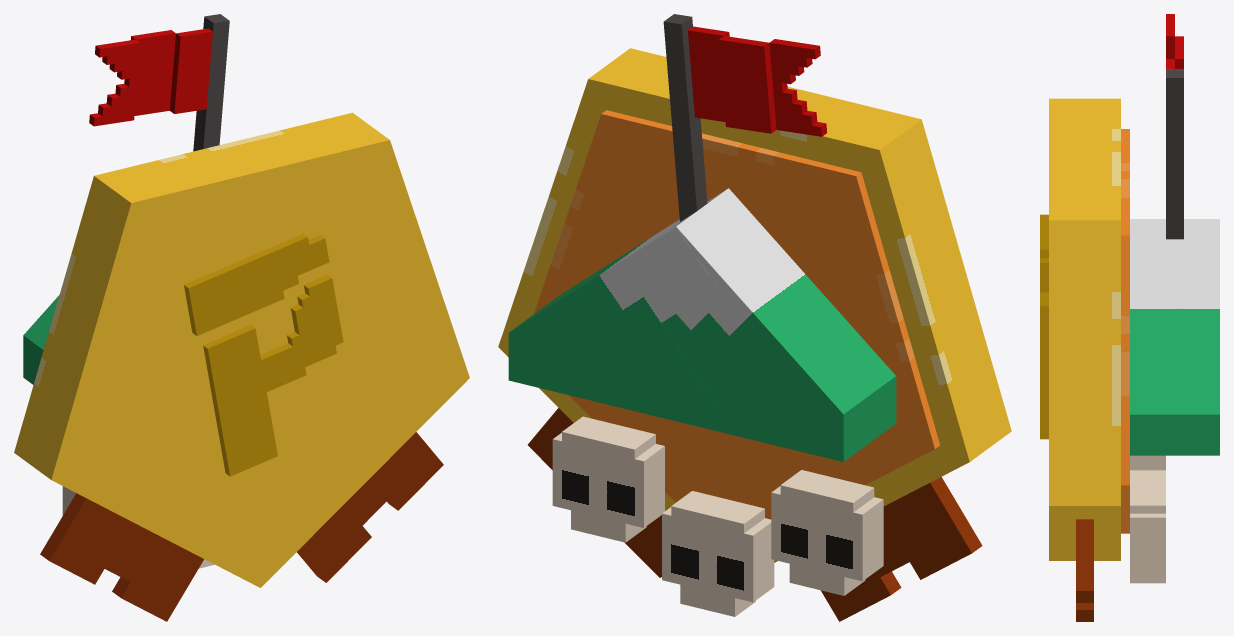
The model's file is achievement_maxlevel.gltf.
3 renders of one model, left to right at view 1: azimuth 30°, elevation 25°; view 2: azimuth 150°, elevation 25°; view 3: azimuth 270°, elevation 25°, orthographic. The views are drawn at different scales.
Visible parts, largest first — view 1: Main-Local, Frame2-Local, Frame1-Local, BackP-Local, Frame5-Local, Flag-Local, Ribbon2-Local, Frame4-Local, Ribbon1-Local, Frame3-Local, Mountain4-Local, Mountain2$$(1)-Local; view 2: Mountain4-Local, Frame2-Local, Mountain1-Local, Main-Local, Flag-Local, Frame1-Local, Border5-Local, Skull3_3-Local, Skull3_2-Local, Border2-Local, Skull3_1-Local, Border3-Local (+9 smaller); view 3: Frame5-Local, Mountain1-Local, Frame1-Local, Skull3_2-Local, Flag-Local, Mountain3-Local, Frame4-Local, Border5-Local, BackP-Local, Ribbon1-Local, Border1-Local, Skull3_3-Local (+1 smaller).
Boxes of the visible parts, left/top/right/bottom form: Main-Local: left=115, top=194, right=406, bottom=544; Frame2-Local: left=14, top=176, right=192, bottom=485; Frame1-Local: left=94, top=112, right=389, bottom=270; BackP-Local: left=184, top=234, right=343, bottom=476; Frame5-Local: left=340, top=140, right=469, bottom=413; Flag-Local: left=89, top=14, right=229, bottom=151; Ribbon2-Local: left=40, top=493, right=203, bottom=621; Frame4-Local: left=223, top=333, right=469, bottom=587; Ribbon1-Local: left=297, top=432, right=443, bottom=582; Frame3-Local: left=51, top=417, right=298, bottom=587; Mountain4-Local: left=23, top=295, right=59, bottom=349; Mountain2$$(1)-Local: left=23, top=335, right=43, bottom=384; Mountain4-Local: left=661, top=188, right=895, bottom=425; Frame2-Local: left=810, top=119, right=1011, bottom=463; Mountain1-Local: left=509, top=190, right=725, bottom=414; Main-Local: left=583, top=154, right=874, bottom=490; Flag-Local: left=663, top=14, right=827, bottom=221; Frame1-Local: left=588, top=48, right=921, bottom=226; Border5-Local: left=534, top=114, right=670, bottom=313; Skull3_3-Local: left=771, top=470, right=883, bottom=595; Skull3_2-Local: left=552, top=416, right=664, bottom=542; Border2-Local: left=787, top=172, right=939, bottom=449; Skull3_1-Local: left=662, top=491, right=774, bottom=616; Border3-Local: left=686, top=384, right=934, bottom=519; Frame5-Local: left=1049, top=220, right=1120, bottom=505; Mountain1-Local: left=1130, top=219, right=1219, bottom=414; Frame1-Local: left=1049, top=98, right=1120, bottom=220; Skull3_2-Local: left=1130, top=475, right=1165, bottom=583; Flag-Local: left=1166, top=14, right=1183, bottom=239; Mountain3-Local: left=1130, top=414, right=1219, bottom=455; Frame4-Local: left=1049, top=506, right=1120, bottom=560; Border5-Local: left=1121, top=235, right=1129, bottom=485; BackP-Local: left=1040, top=214, right=1048, bottom=439; Ribbon1-Local: left=1076, top=519, right=1093, bottom=621; Border1-Local: left=1121, top=129, right=1129, bottom=235; Skull3_3-Local: left=1130, top=455, right=1165, bottom=470.
Size of the model in its own units: 51.78 by 64.26 by 20.01.
Materials: 22 (22 with a texture image).
